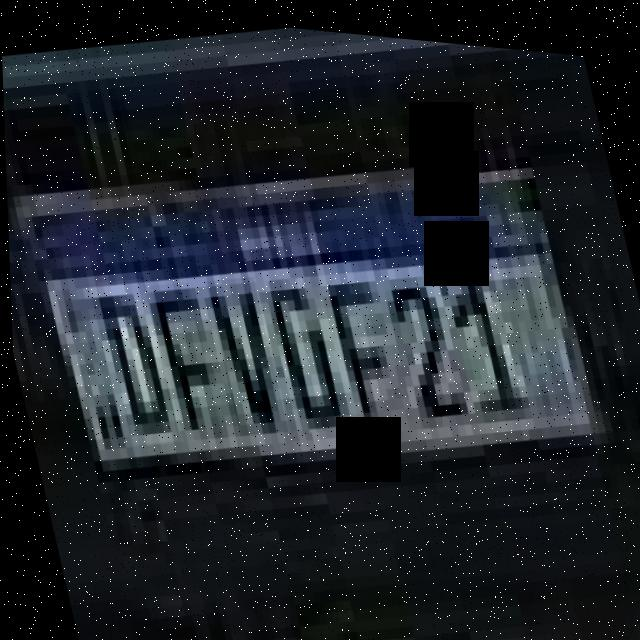0: (264, 266, 348, 431)
1: (447, 247, 530, 415)
D: (95, 272, 176, 446)
F: (318, 254, 408, 432), (146, 275, 221, 441)
V: (203, 268, 286, 435)
